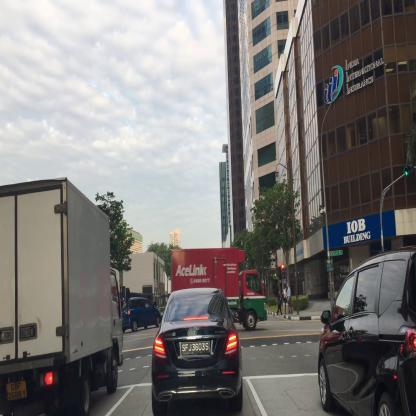red_traffic_light: (281, 262, 285, 278)
